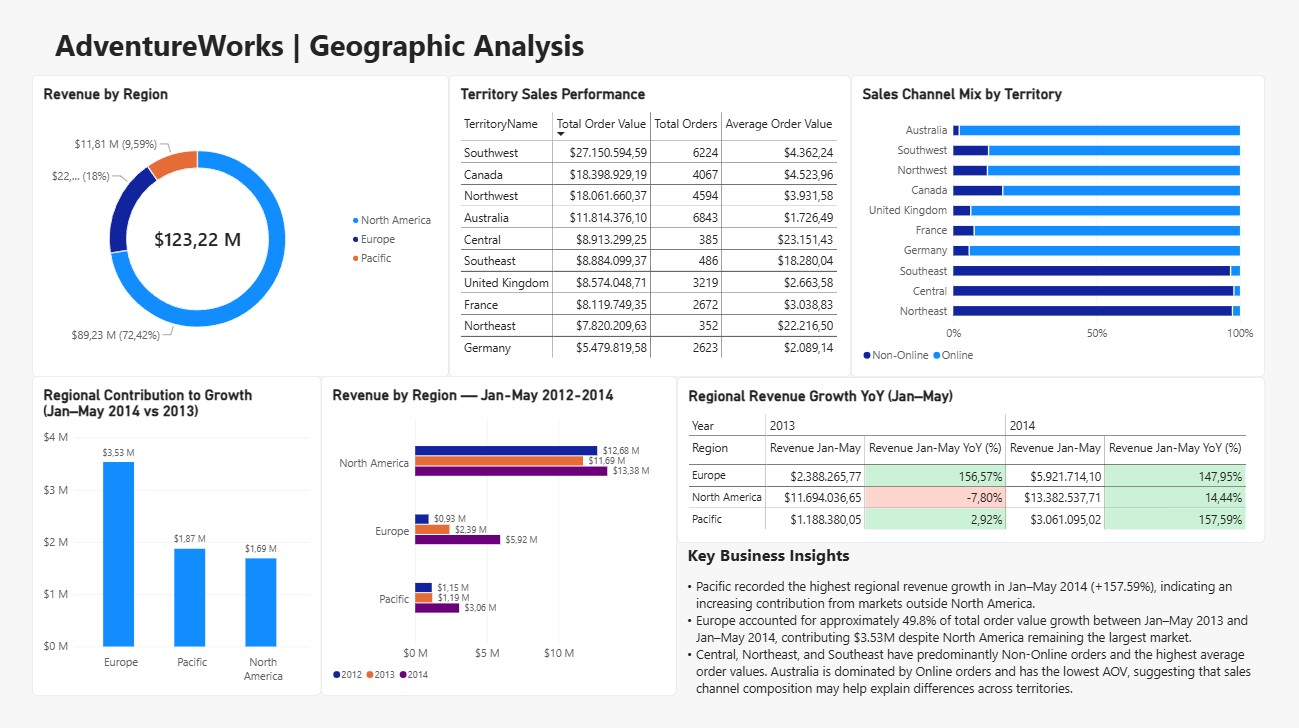

This screenshot's page, from the dashboard's own definition file:
{"tool":"powerbi","page":{"name":"Geographic Analysis","canvas":[1920,1080],"ordinal":3},"visuals":[{"type":"donutChart","title":"Revenue by Region","fields":{"Category":["DimTerritory.Region"],"Y":["FactSalesOrders.Total Revenue"]},"box":[48.7,113.6,615.4,445.7],"z":0},{"type":"textbox","box":[83.3,40.1,829.7,109.5],"z":1000},{"type":"clusteredColumnChart","title":"Regional Contribution to Growth (Jan–May 2014 vs 2013)","fields":{"Category":["DimTerritory.Region"],"Y":["FactSalesOrders.Regional Order Value Growth"]},"box":[48.7,557.8,426.5,472.3],"z":2000},{"type":"pivotTable","title":"Territory Sales Performance","fields":{"Rows":["DimTerritory.TerritoryName"],"Values":["FactSalesOrders.Total Revenue","FactSalesOrders.Total Orders","FactSalesOrders.Average Order Value"]},"box":[664.1,113.6,593.3,445.7],"z":3000},{"type":"textbox","box":[1000,804.3,868.6,275.7],"z":4000},{"type":"hundredPercentStackedBarChart","title":"Sales Channel Mix by Territory","fields":{"Category":["DimTerritory.TerritoryName"],"Series":["FactSalesOrders.Sales Channel"],"Y":["FactSalesOrders.Total Orders"]},"box":[1257.4,113.6,611,445.7],"z":5000},{"type":"clusteredBarChart","title":"Revenue by Region — Jan-May 2012-2014","fields":{"Category":["DimTerritory.Region"],"Series":["DimDate.Year"],"Y":["FactSalesOrders.Revenue Jan-May"]},"box":[475.2,557.8,525.4,472.3],"z":6000},{"type":"pivotTable","title":"Regional Revenue Growth YoY (Jan–May)","fields":{"Columns":["DimDate.Year"],"Rows":["DimTerritory.Region"],"Values":["FactSalesOrders.Revenue Jan-May","FactSalesOrders.Revenue Jan-May YoY (%)"]},"box":[1000.6,559.3,867.8,245],"z":7000}]}

Visuals, with their boxes in screenshot pixels (x1, y1, x2, y2), scaled from the page's 1920x1080 canvas onto the 1299x728 screenshot:
"Revenue by Region" donutChart: x1=33 y1=77 x2=449 y2=377
textbox: x1=56 y1=27 x2=618 y2=101
"Regional Contribution to Growth (Jan–May 2014 vs 2013)" clusteredColumnChart: x1=33 y1=376 x2=322 y2=694
"Territory Sales Performance" pivotTable: x1=449 y1=77 x2=851 y2=377
textbox: x1=677 y1=542 x2=1264 y2=727
"Sales Channel Mix by Territory" hundredPercentStackedBarChart: x1=851 y1=77 x2=1264 y2=377
"Revenue by Region — Jan-May 2012-2014" clusteredBarChart: x1=322 y1=376 x2=677 y2=694
"Regional Revenue Growth YoY (Jan–May)" pivotTable: x1=677 y1=377 x2=1264 y2=542
